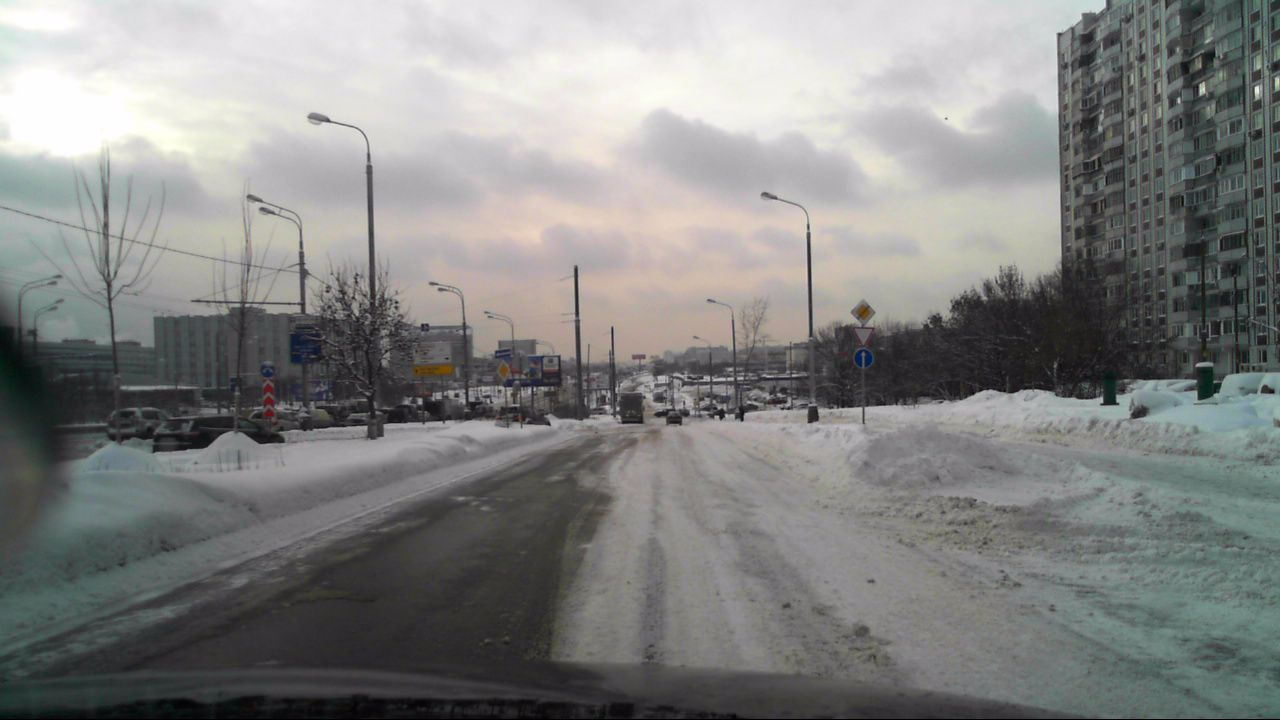main road: (850, 298, 876, 325)
